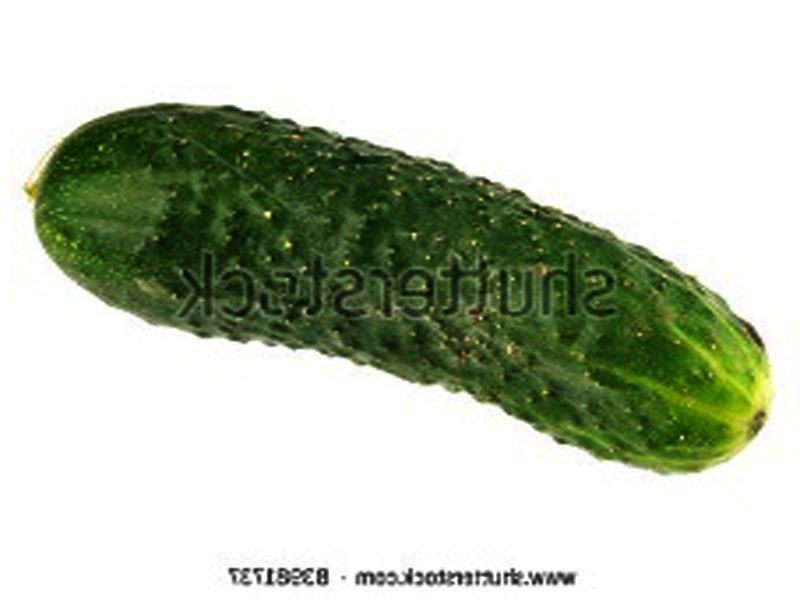Cucumber: (31, 103, 767, 470)
